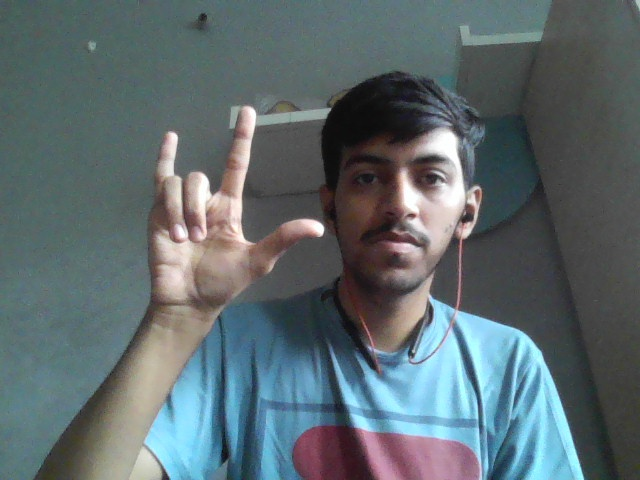I Love You: (143, 101, 327, 310)
